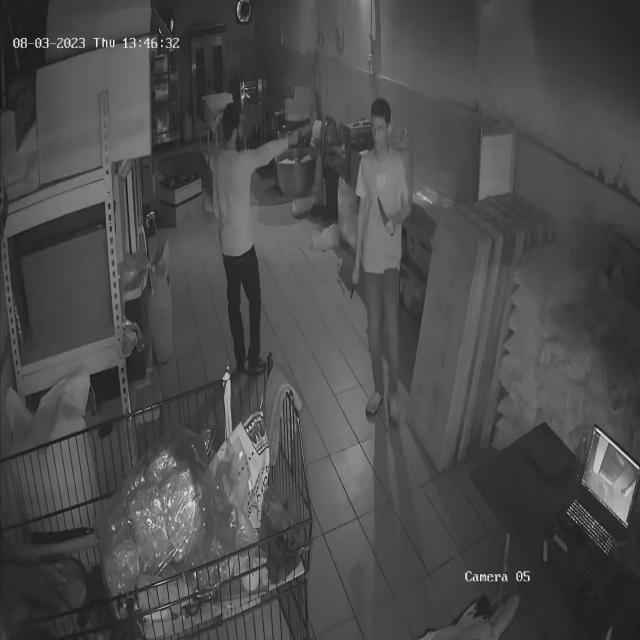Knife: (368, 192, 418, 246)
